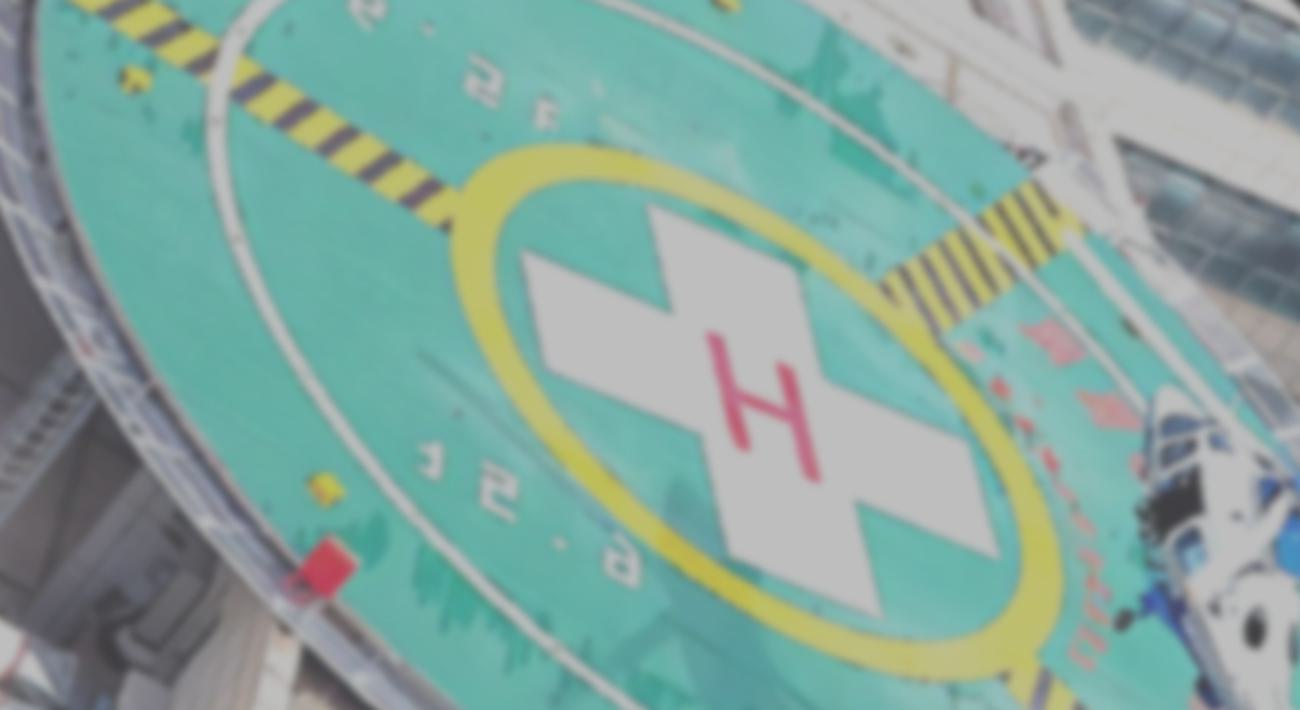Apron: (443, 97, 1126, 697)
